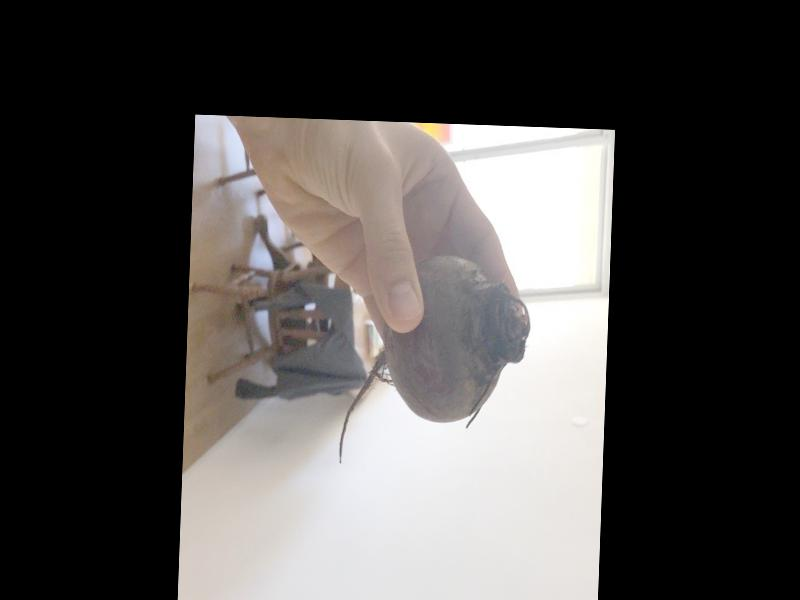Beet: (338, 252, 532, 470)
